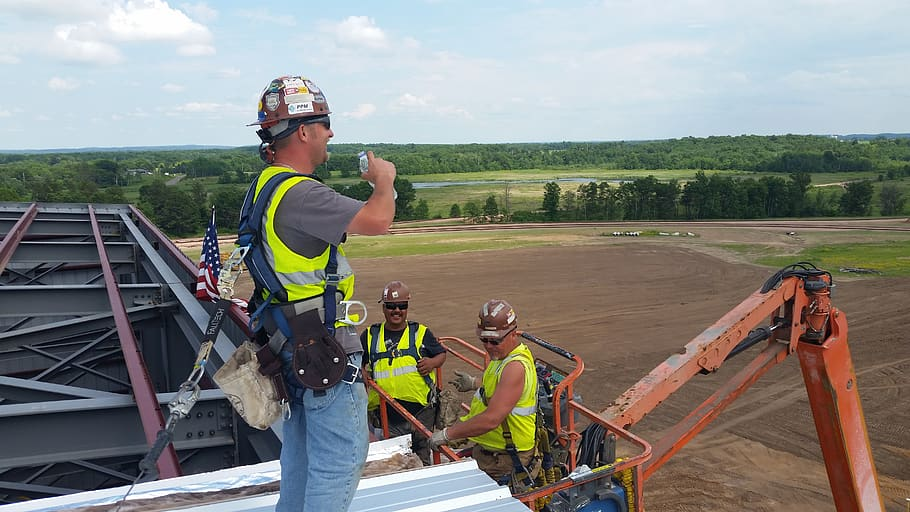Hard Hat: (252, 81, 334, 166), (469, 300, 521, 361), (378, 281, 412, 328)
Person: (233, 80, 397, 507), (429, 300, 542, 479), (365, 280, 445, 429)
Vest: (252, 122, 363, 326), (461, 334, 536, 452), (370, 302, 436, 408)
